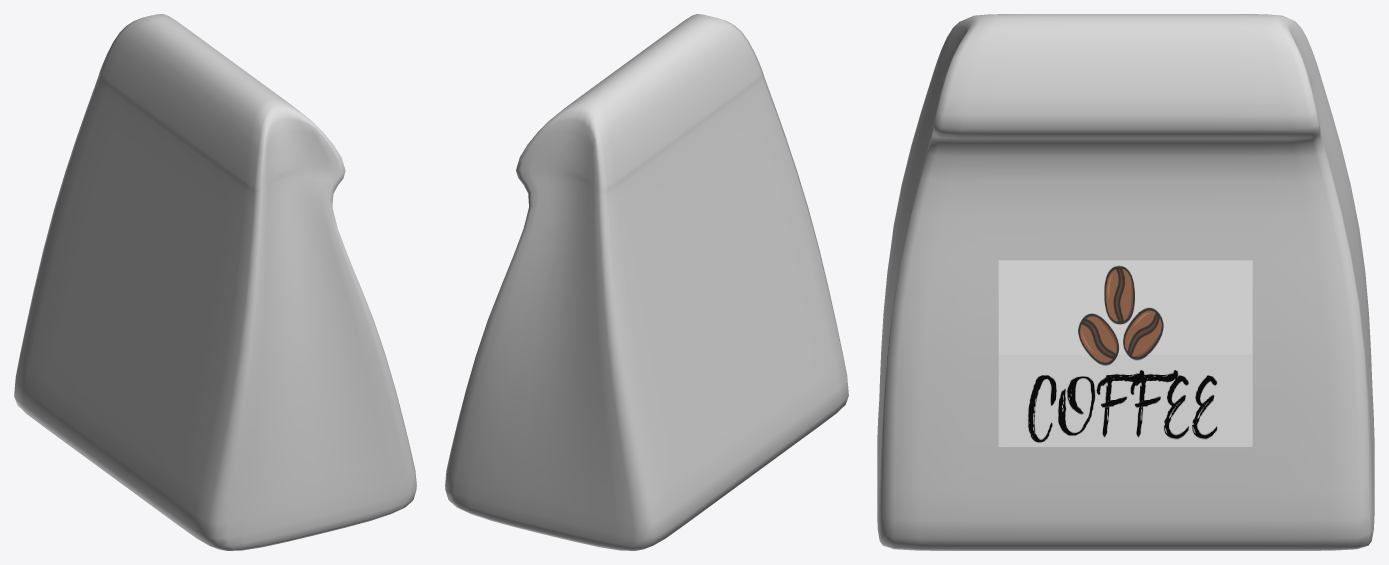
Rendered from coffee-packet.fbx.
The picture shows the model from 3 angles, left to right: view 1: azimuth 30°, elevation 25°; view 2: azimuth 150°, elevation 25°; view 3: azimuth 270°, elevation 25°; orthographic projection. The views are drawn at different scales.
Visible parts, largest first — view 1: Plane; view 2: Plane; view 3: Plane, label.
Boxes of the visible parts, x1,y1,x2,y2 form: Plane: (14, 14, 416, 550); Plane: (445, 14, 848, 550); Plane: (877, 14, 1374, 550); label: (998, 260, 1252, 446).
Bounding box in the file's own units: 119 × 214 × 198.
